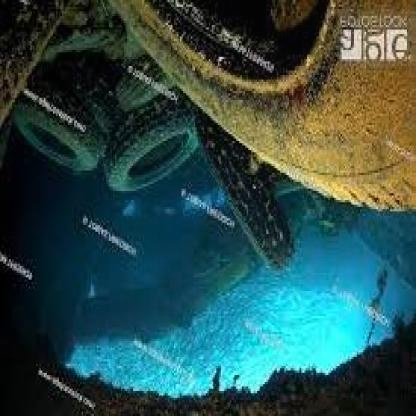tire: (188, 107, 308, 298), (17, 70, 110, 193), (91, 100, 201, 202)
